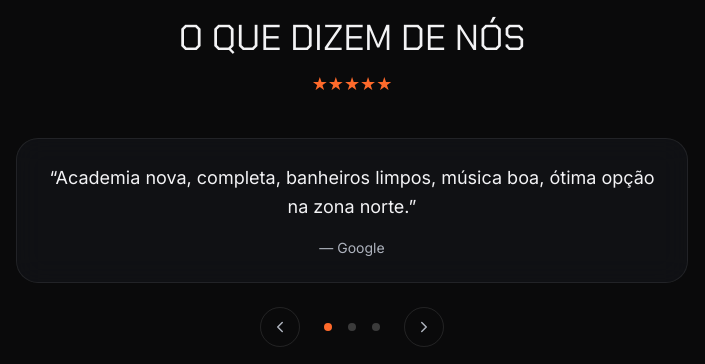
it: Depoimentos › advances to the next review's text on next-button click
This screenshot has width=705, height=364.
Click the button named "Próximo depoimento": point(424, 326) [404,306,444,346]
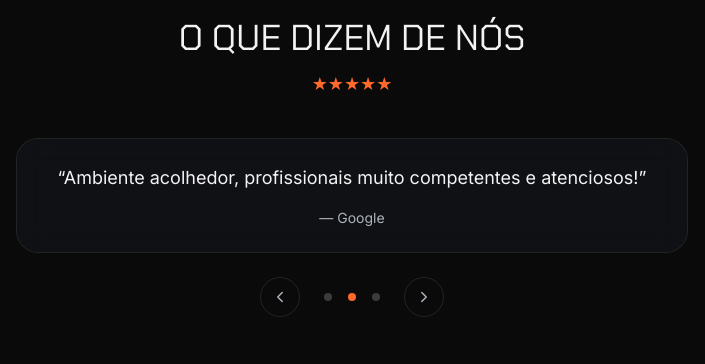
Result: the text "Ambiente acolhedor, profissionais muito competentes e atenciosos!" is shown at [64,167,638,188]
Result: the text "Academia nova, completa, banheiros limpos, música boa, ótima opção na zona norte." is gone
